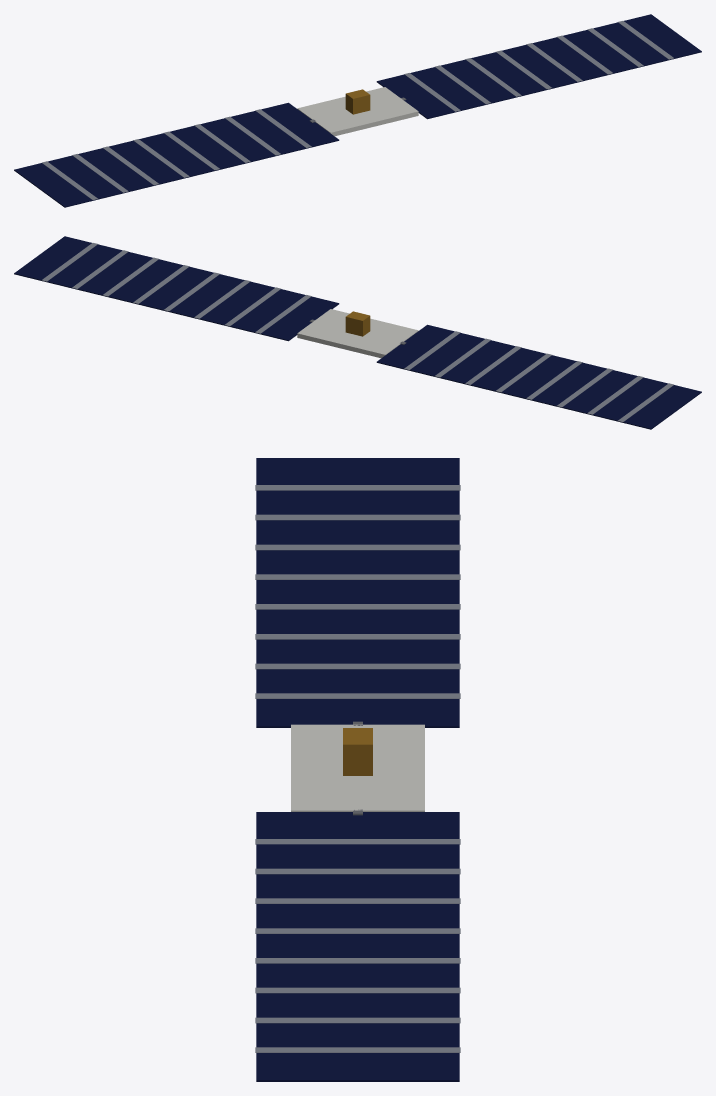
The model's file is starlink_v2.glb.
3 views of the same model, one above another, from view 1: azimuth 30°, elevation 25°; view 2: azimuth 150°, elevation 25°; view 3: azimuth 270°, elevation 25° (orthographic). The views are drawn at different scales.
Parts seen in each view (by area): view 1: starlink_v2; view 2: starlink_v2; view 3: starlink_v2.
Boxes of the visible parts, x1,y1,x2,y2 form: starlink_v2: (14, 14, 701, 207); starlink_v2: (14, 236, 701, 429); starlink_v2: (255, 458, 460, 1081).
Size of the model in its own units: 29.7 by 0.94 by 4.14.
